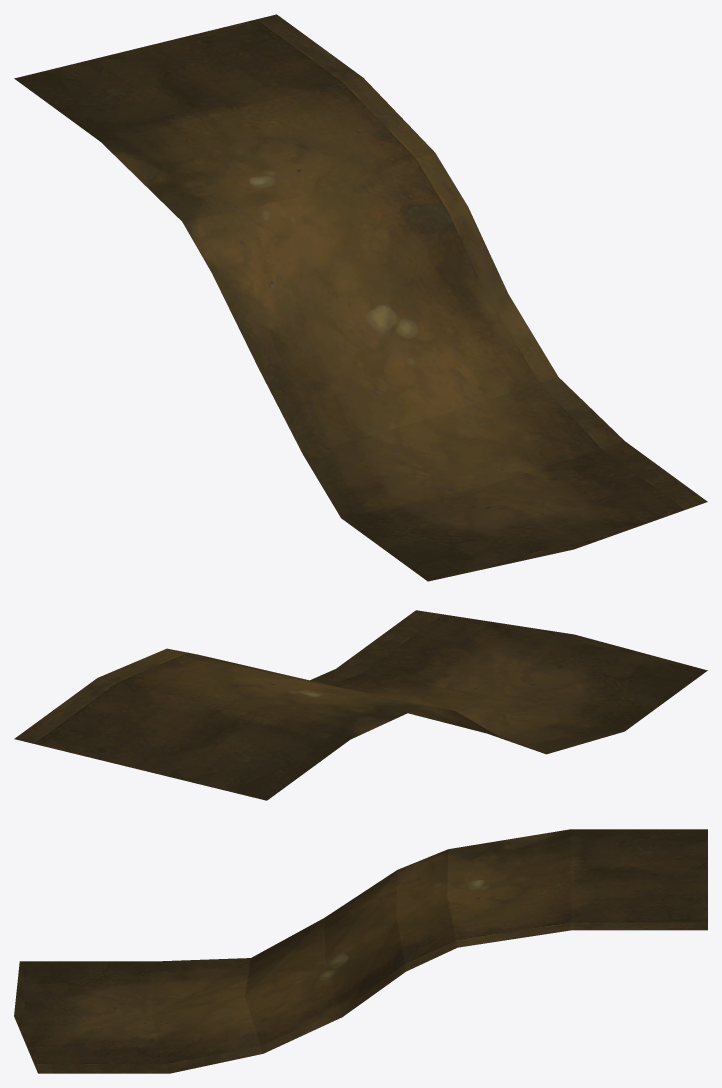
The model's file is tundra_ramproad01.fbx.
The picture shows the model from 3 angles, top to bottom: view 1: azimuth 30°, elevation 25°; view 2: azimuth 150°, elevation 25°; view 3: azimuth 270°, elevation 25°; orthographic projection. The views are drawn at different scales.
Visible parts, largest first — view 1: obj0.120; view 2: obj0.120; view 3: obj0.120.
Part boxes in pixels (box(x1,y1,x2,y2)): obj0.120: box(14, 14, 707, 581); obj0.120: box(14, 610, 707, 800); obj0.120: box(14, 829, 707, 1073).
Bounding box in the file's own units: 6.81 × 3.98 × 17.77.
